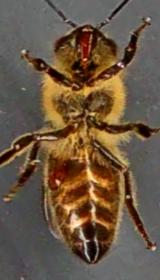varroa_mite: (38, 158, 74, 201)
